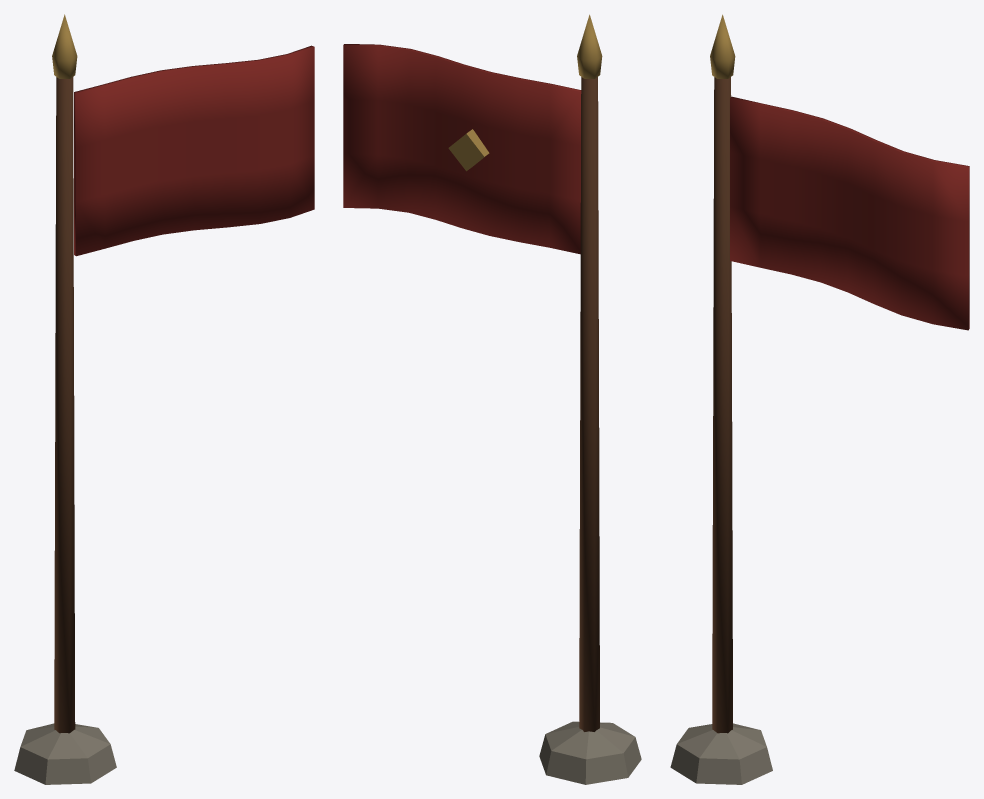
File: banner.glb
3 views of the same model, side by side, from view 1: azimuth 30°, elevation 25°; view 2: azimuth 150°, elevation 25°; view 3: azimuth 330°, elevation 25° (orthographic).
Parts seen in each view (by area): view 1: banner; view 2: banner; view 3: banner.
Part boxes in pixels (x1,y1,x2,y2): banner: [14, 14, 314, 784]; banner: [343, 14, 641, 784]; banner: [670, 14, 969, 784].
Size of the model in its own units: 1.6 by 3.92 by 0.4752.
